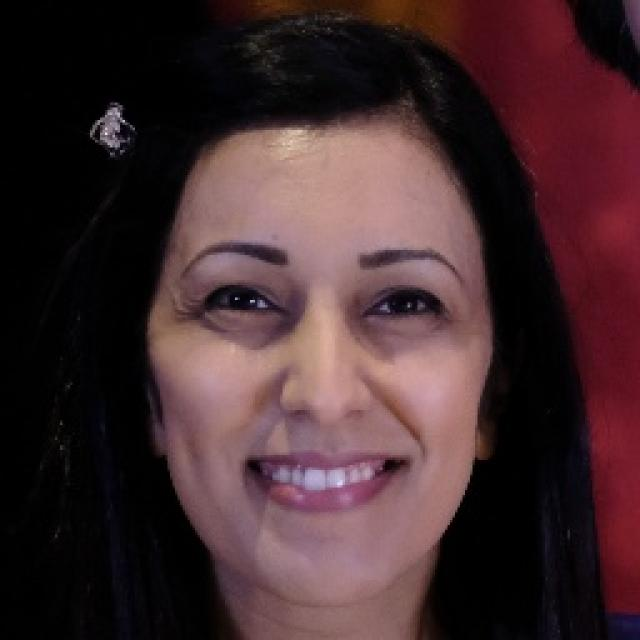earlobe: (473, 417, 501, 463)
eye: (364, 289, 447, 322), (204, 284, 280, 318)
nose: (274, 409, 372, 442)
